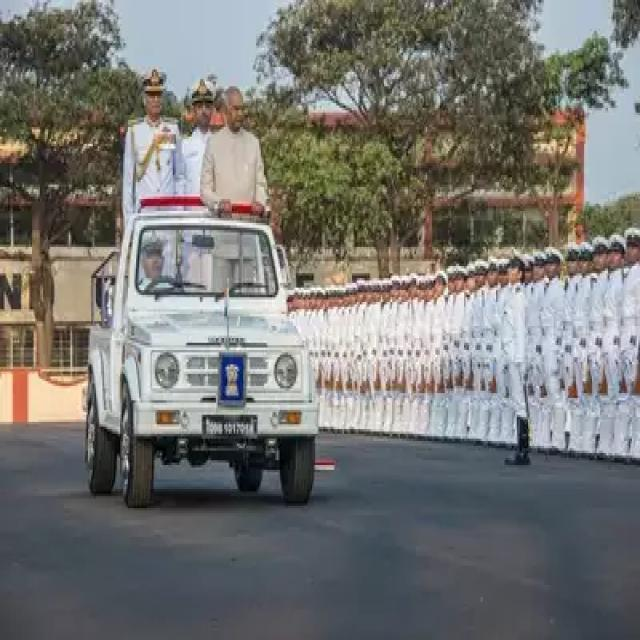plate: (200, 408, 262, 444)
